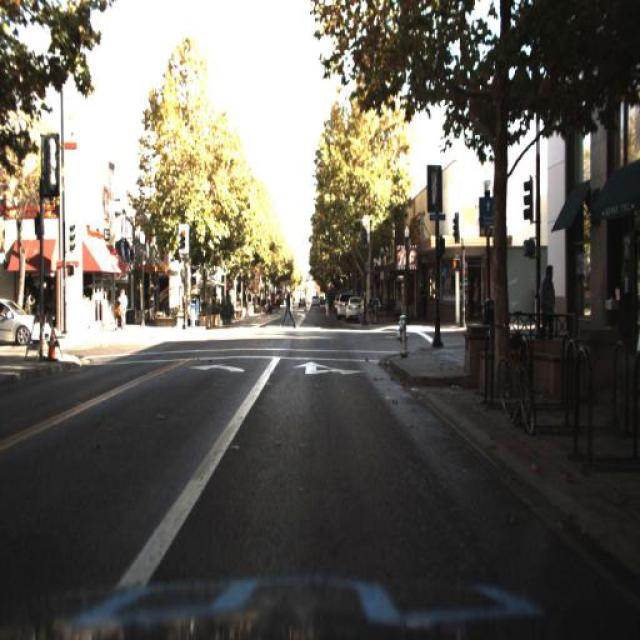car: (0, 291, 62, 360), (346, 296, 366, 329), (337, 293, 348, 329)
trafficLight: (529, 259, 562, 341), (536, 262, 559, 326), (277, 282, 299, 336), (111, 293, 130, 343), (416, 275, 432, 323), (118, 287, 131, 331), (319, 293, 333, 331), (320, 292, 330, 327)
trafficLight-RedLeft: (174, 218, 190, 266), (359, 212, 370, 256), (174, 224, 188, 258)
